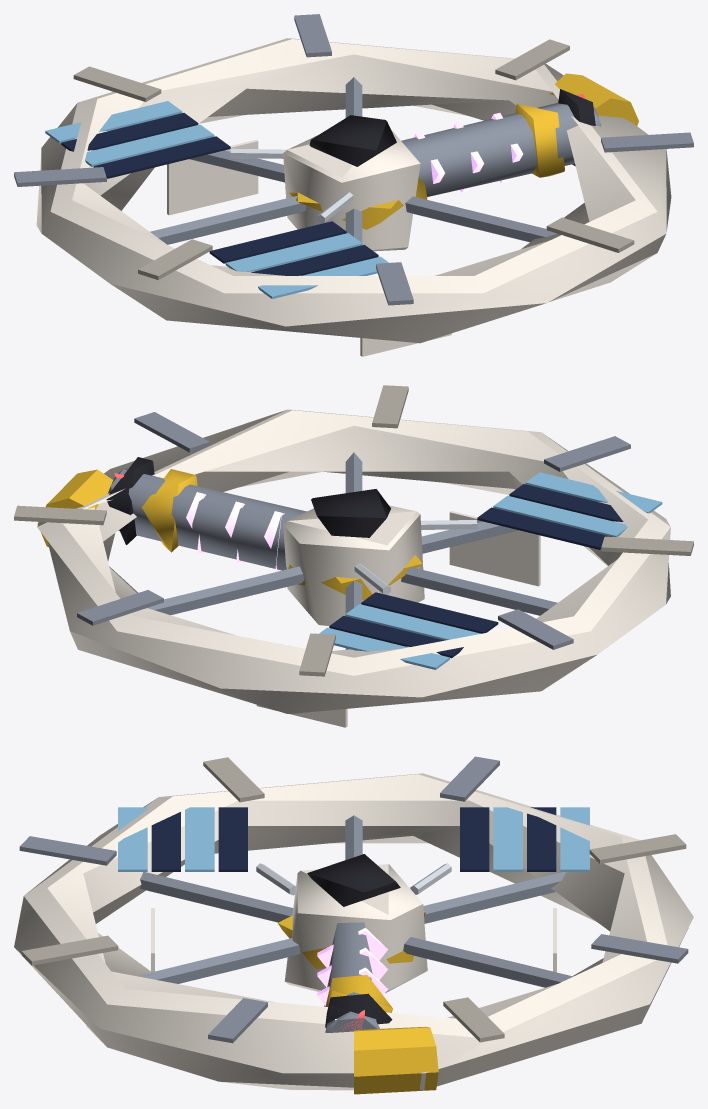
The model's file is laser_platform.glb.
3 views of the same model, one above another, from view 1: azimuth 30°, elevation 25°; view 2: azimuth 150°, elevation 25°; view 3: azimuth 270°, elevation 25° (orthographic). The views are drawn at different scales.
Parts seen in each view (by area): view 1: laser_platform; view 2: laser_platform; view 3: laser_platform.
Part boxes in pixels (x1,y1,x2,y2): laser_platform: (14, 14, 693, 356); laser_platform: (14, 385, 693, 727); laser_platform: (14, 756, 693, 1094).
Bounding box in the file's own units: 101 × 24 × 101.
1 material, 1 textured.
